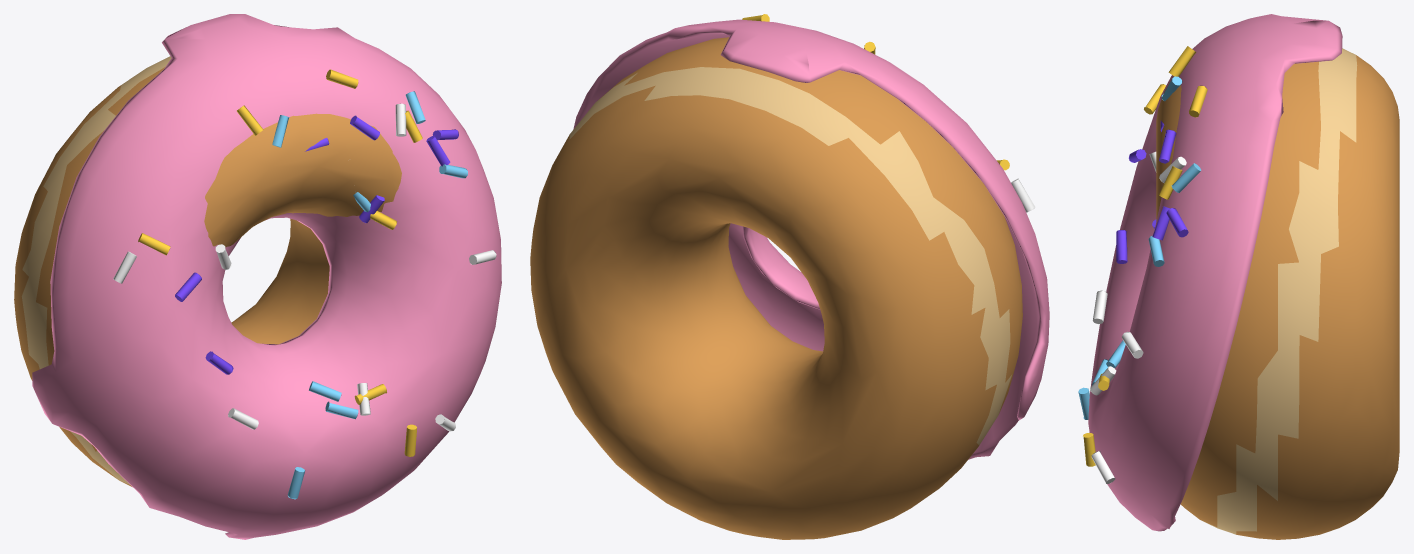
File: tb_mat_smultring.glb
3 views of the same model, side by side, from view 1: azimuth 30°, elevation 25°; view 2: azimuth 150°, elevation 25°; view 3: azimuth 270°, elevation 25° (orthographic). The views are drawn at different scales.
Parts seen in each view (by area): view 1: matkropp; view 2: matkropp; view 3: matkropp.
Boxes of the visible parts, x1,y1,x2,y2 form: matkropp: (14,14,501,539); matkropp: (530,14,1049,539); matkropp: (1078,14,1399,539).
Bounding box in the file's own units: 1.07 × 1.08 × 0.6409.
